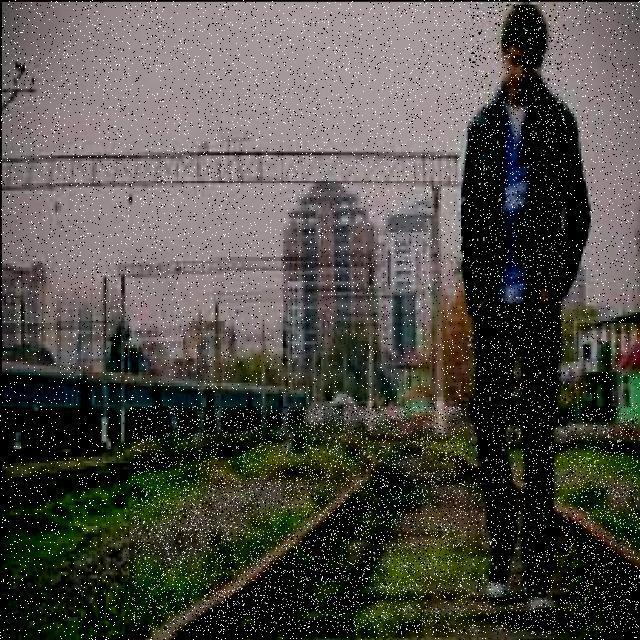danger: (466, 3, 566, 597)
rail: (133, 407, 638, 633)
